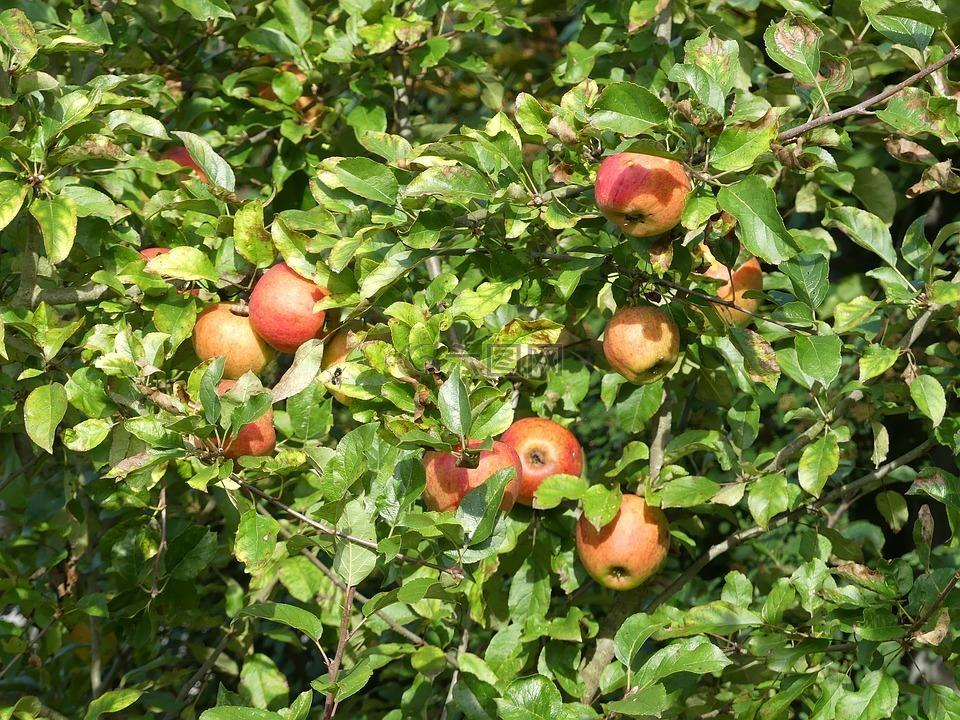apple: (591, 152, 692, 241), (574, 493, 668, 587), (491, 418, 582, 502), (421, 439, 521, 515), (246, 265, 328, 351), (190, 301, 269, 383), (602, 303, 679, 380)
